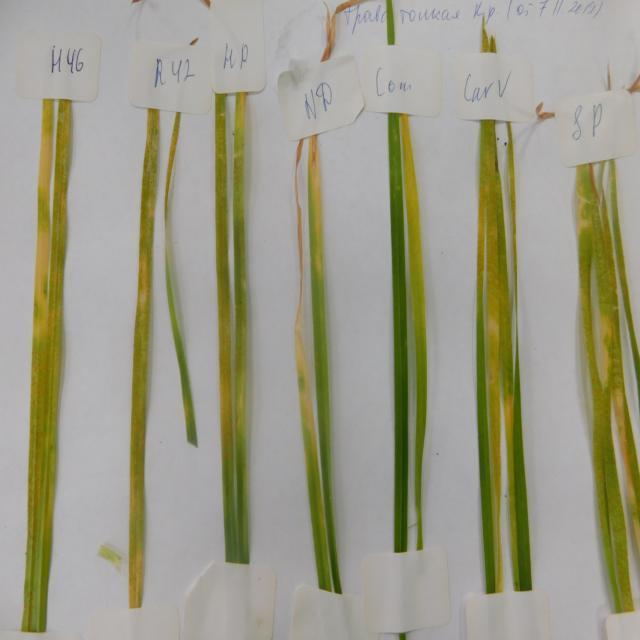Yellow Rust: (38, 98, 70, 627)
